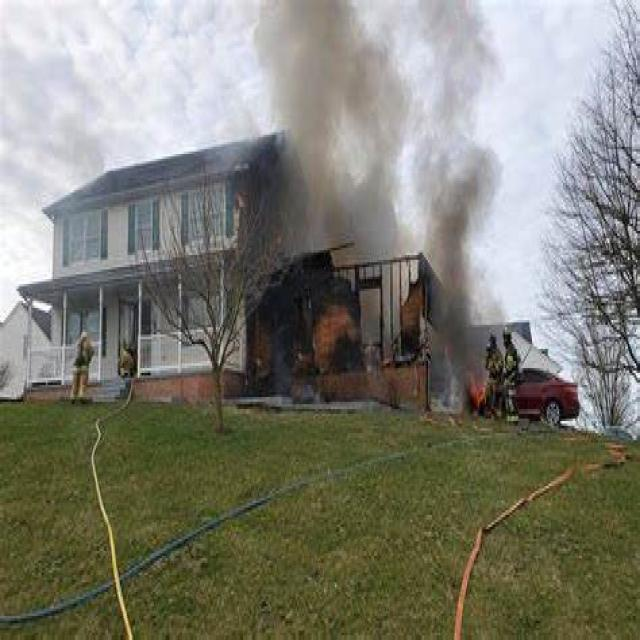Smoke: (285, 11, 393, 228), (426, 52, 484, 302)
